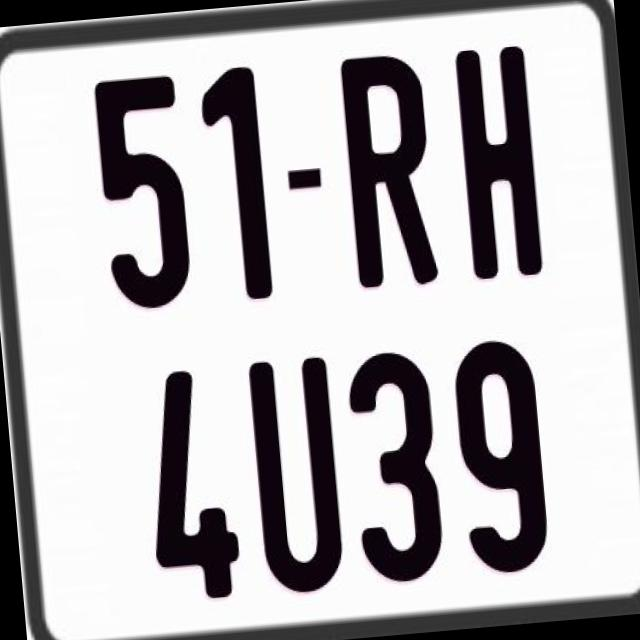1: (193, 61, 275, 305)
3: (343, 349, 451, 586)
4: (140, 364, 248, 600)
5: (92, 70, 192, 310)
9: (450, 332, 556, 574)
H: (450, 44, 541, 284)
R: (338, 53, 437, 296)
U: (243, 353, 349, 598)
